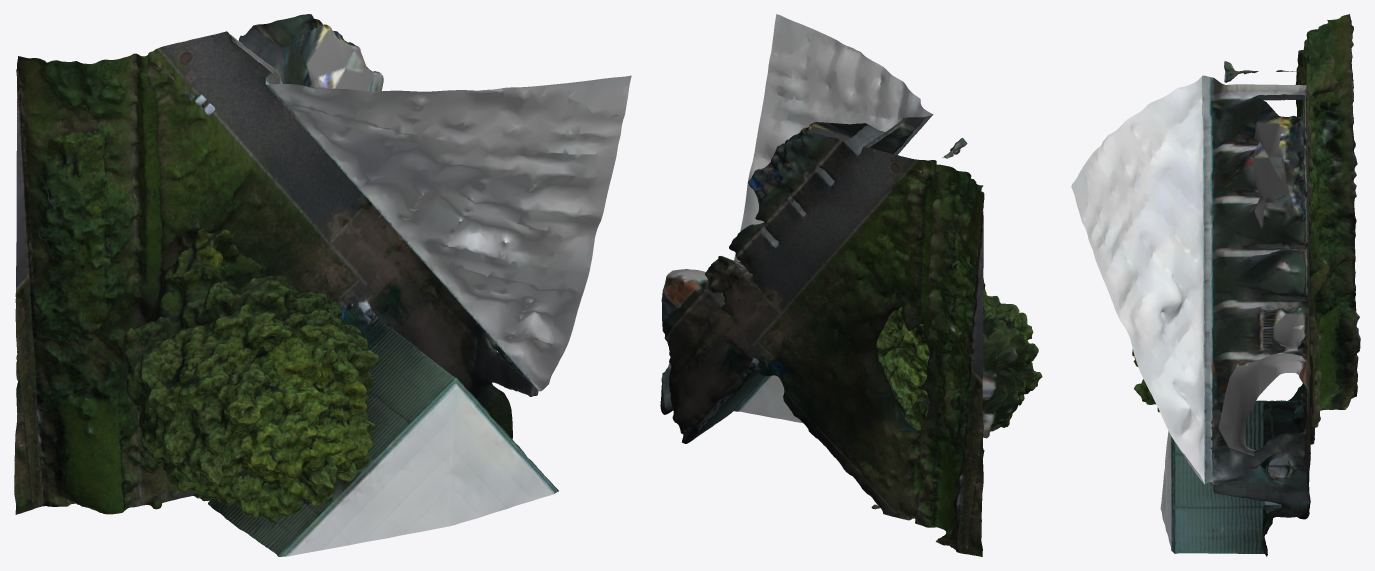
Rendered from Tile_+011_+008.fbx.
3 views of the same model, side by side, from view 1: azimuth 30°, elevation 25°; view 2: azimuth 150°, elevation 25°; view 3: azimuth 270°, elevation 25° (orthographic). The views are drawn at different scales.
Parts seen in each view (by area): view 1: DefaultName; view 2: DefaultName; view 3: DefaultName.
Boxes of the visible parts, left/top/right/bottom form: DefaultName: left=14, top=14, right=631, bottom=556; DefaultName: left=660, top=14, right=1042, bottom=556; DefaultName: left=1071, top=14, right=1360, bottom=556.
Size of the model in its own units: 22.54 by 22.54 by 15.97.
